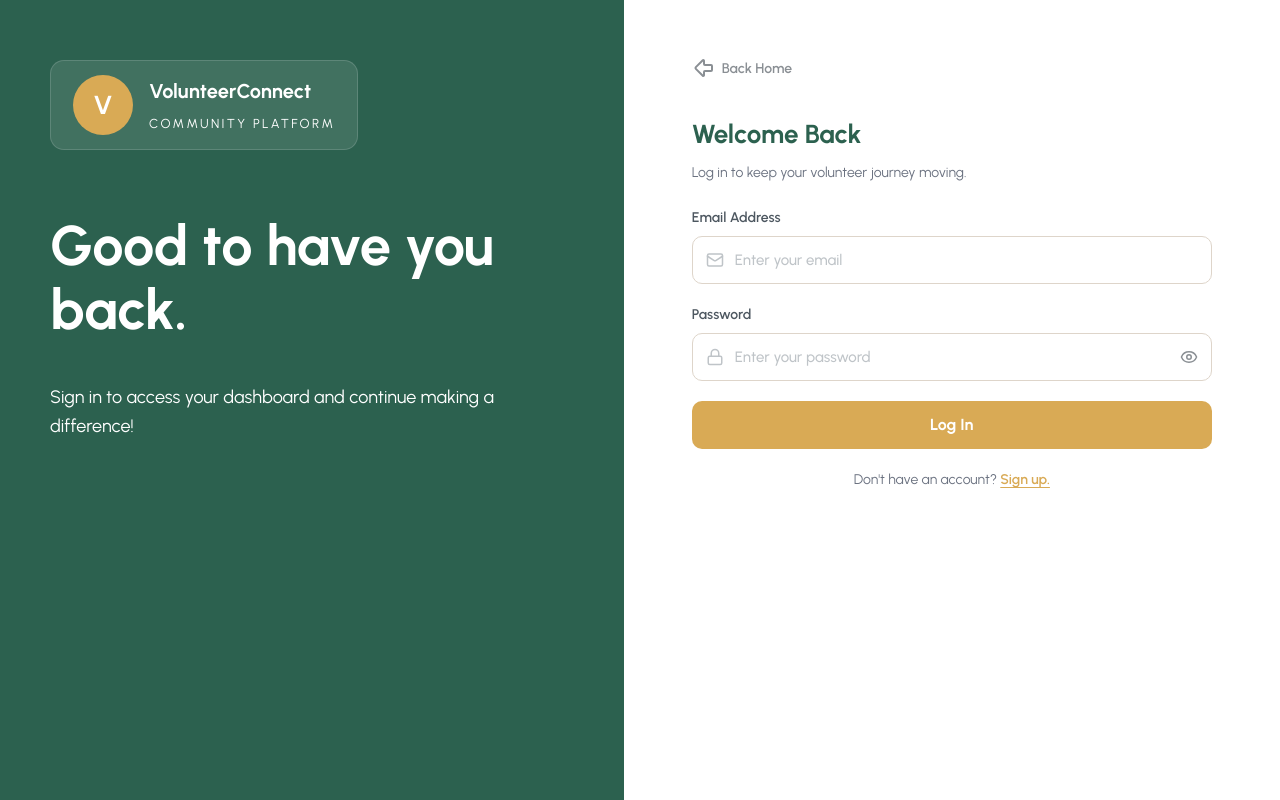
Test case: login and signup forms › validates login email and password before submission
In the field with placeholder "Enter your email": (952, 260) [692,236,1212,284], type "invalid"
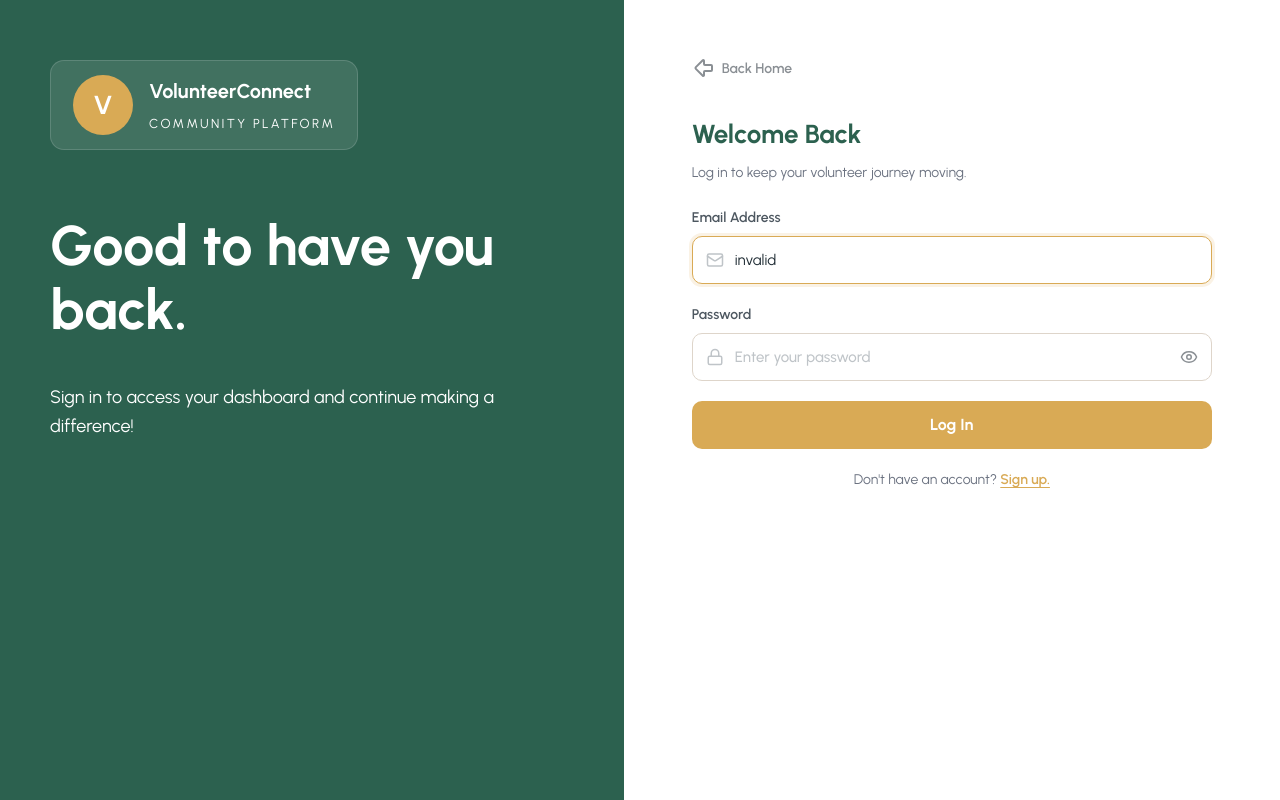
Submit the form "Log In", box [692,207,1212,490]
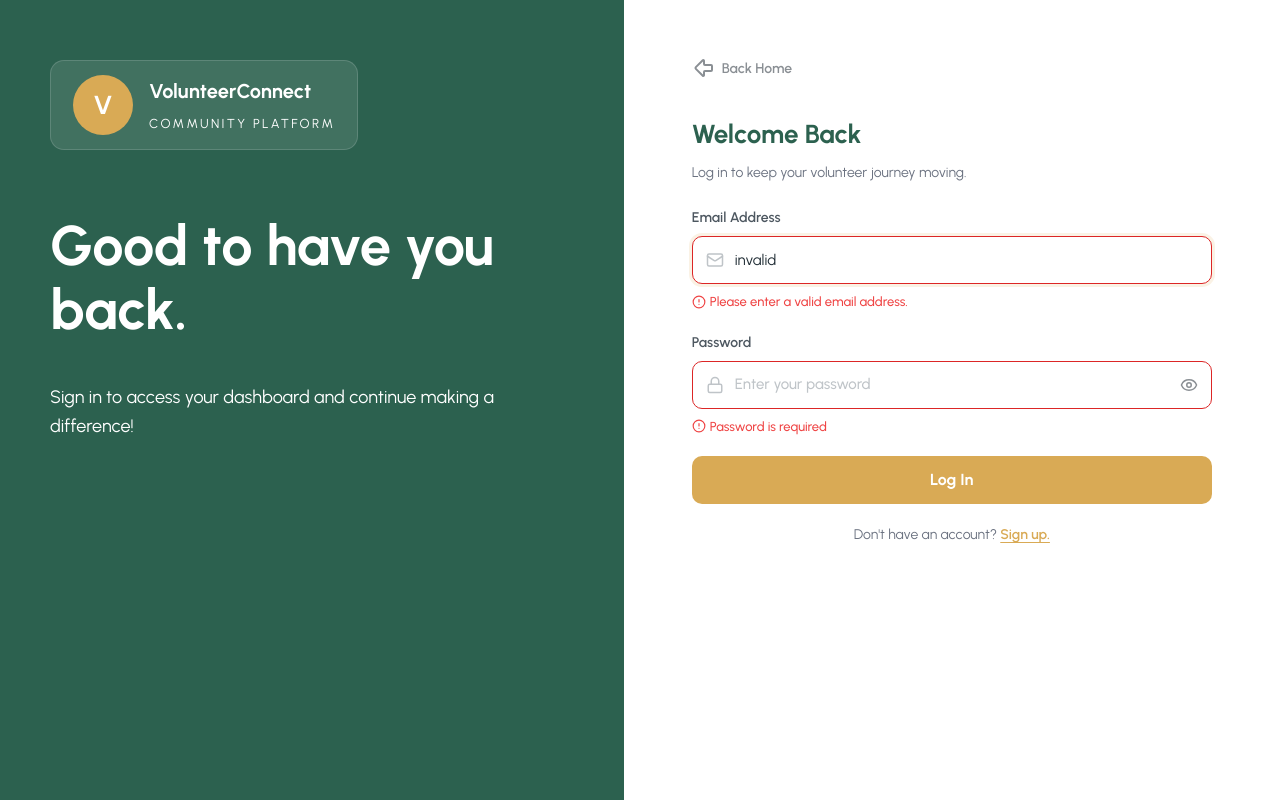
Expected: the text "Please enter a valid email address." is shown, [692,294,908,309]
Expected: the text "Password is required" is shown, [692,418,827,434]
